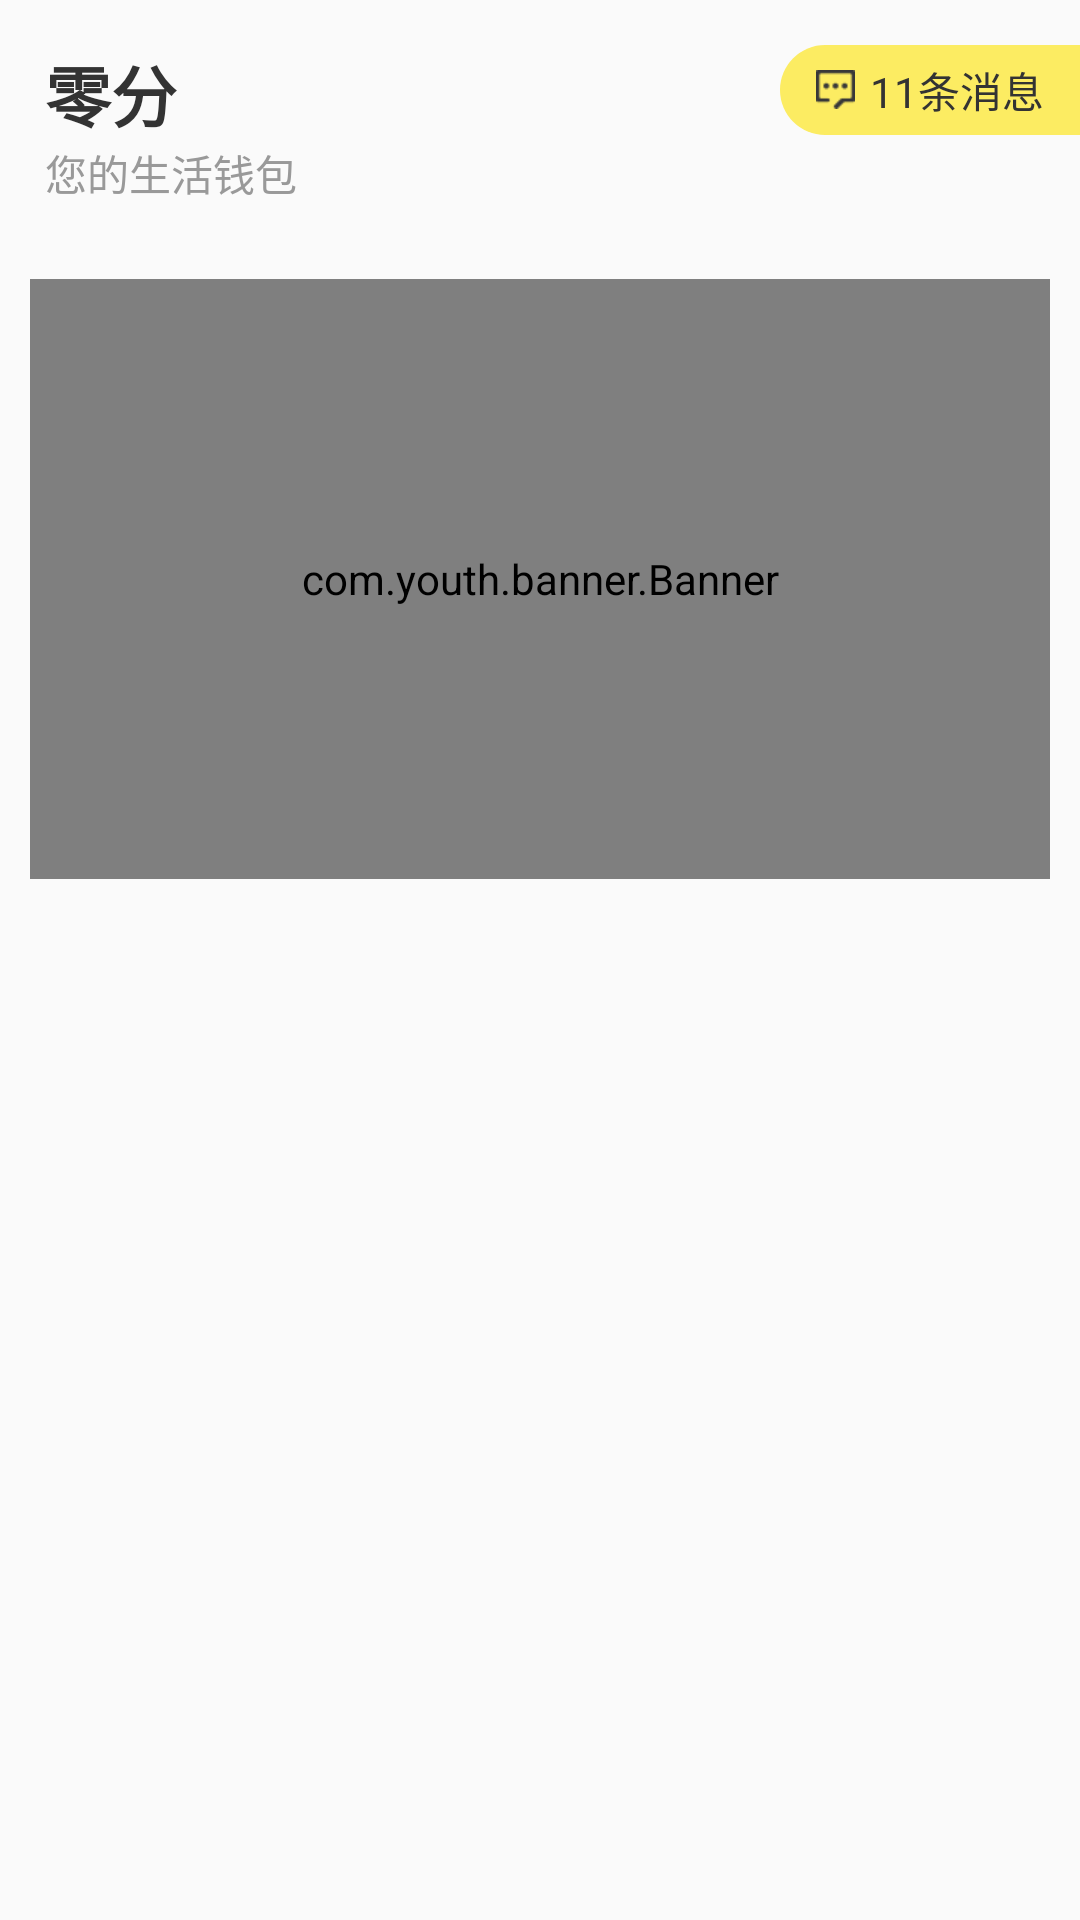

Named icons in this screenshot (1080 × 1920) and their centers, point (x, y):
zero mine top message: point (835, 89)
